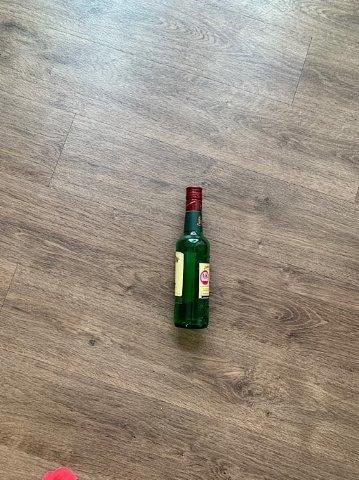botolkaca: (175, 187, 209, 327)
